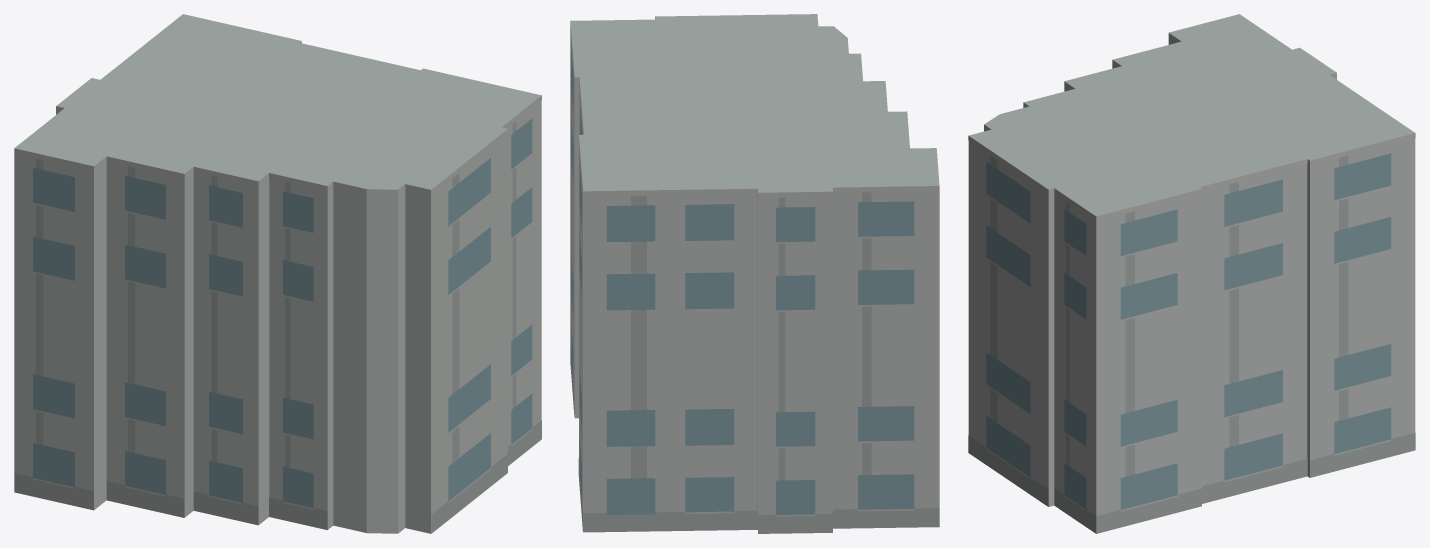
Rendered from survey-upis-32795681.glb.
3 views of the same model, side by side, from view 1: azimuth 30°, elevation 25°; view 2: azimuth 150°, elevation 25°; view 3: azimuth 270°, elevation 25° (orthographic). The views are drawn at different scales.
Parts seen in each view (by area): view 1: survey-upis-32795681.tmp; view 2: survey-upis-32795681.tmp; view 3: survey-upis-32795681.tmp.
Part boxes in pixels (bbox=[...]): survey-upis-32795681.tmp: bbox=[14, 14, 541, 533]; survey-upis-32795681.tmp: bbox=[570, 14, 939, 533]; survey-upis-32795681.tmp: bbox=[968, 14, 1415, 533].
Bounding box in the file's own units: 21.22 × 15.5 × 19.79.
